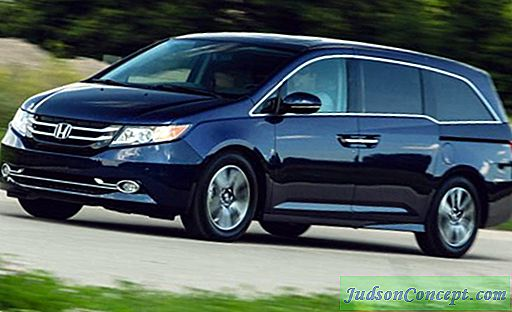van: (2, 31, 511, 259)
